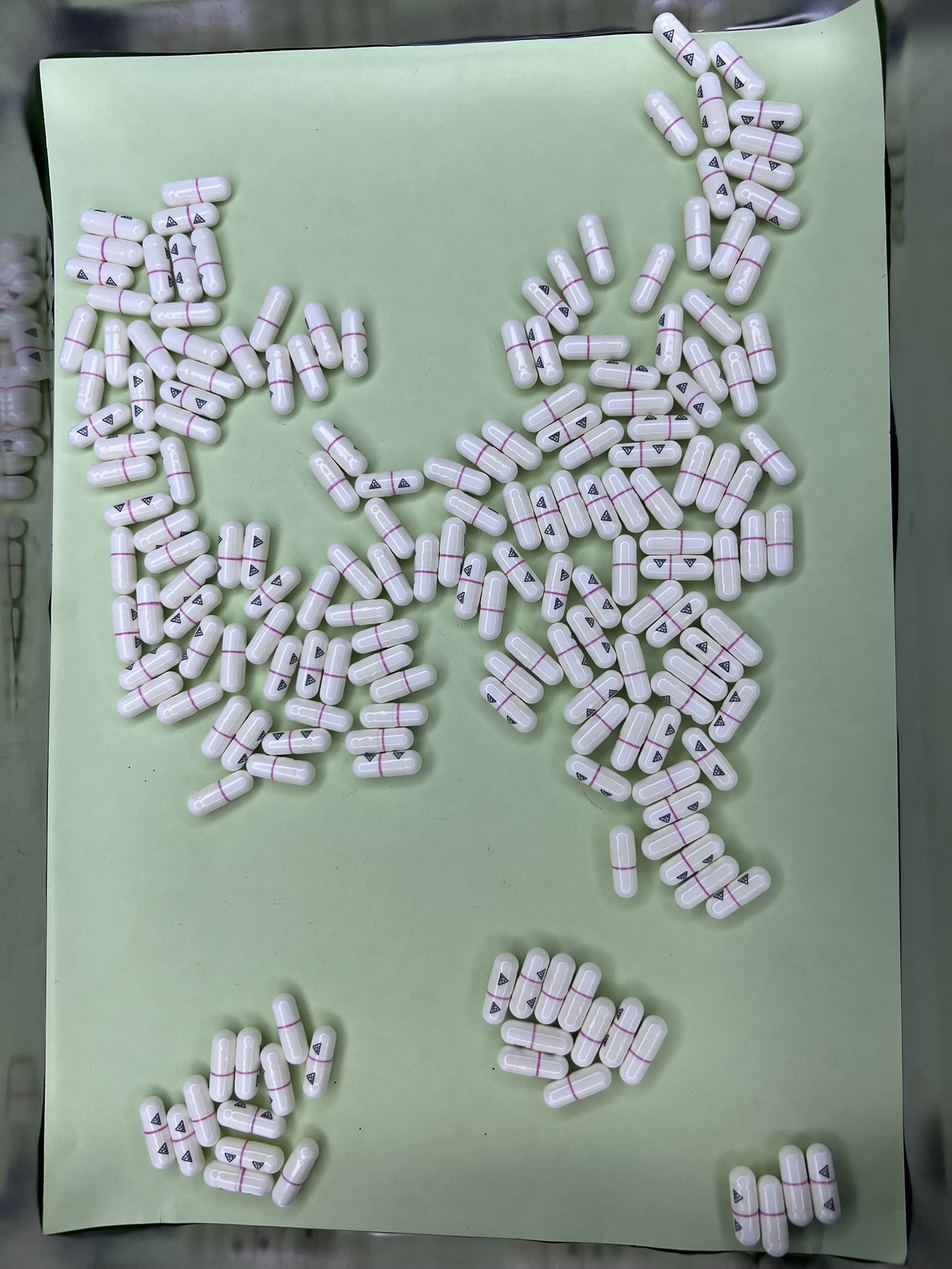Capsule: (699, 606, 765, 669), (626, 582, 694, 642), (642, 589, 709, 648), (675, 854, 741, 913), (654, 11, 712, 78), (648, 667, 715, 725), (657, 833, 726, 888), (484, 652, 548, 711), (570, 697, 631, 758), (326, 542, 385, 604), (219, 706, 274, 772), (643, 90, 695, 159), (571, 563, 622, 633), (681, 725, 739, 786), (682, 287, 740, 348), (159, 553, 220, 611), (740, 423, 796, 485), (522, 273, 578, 335), (246, 603, 297, 671), (661, 650, 724, 705), (642, 814, 711, 864), (272, 1139, 321, 1209), (536, 402, 603, 453), (478, 678, 539, 734), (546, 249, 595, 318), (368, 499, 420, 564), (733, 180, 799, 231), (564, 668, 623, 725), (680, 627, 739, 684), (309, 452, 362, 515), (481, 418, 544, 471), (455, 430, 518, 483), (602, 469, 650, 538), (711, 210, 757, 282), (312, 420, 368, 479), (712, 39, 766, 100), (634, 760, 704, 807), (727, 234, 772, 307), (629, 466, 681, 529), (524, 384, 587, 436), (622, 1016, 668, 1087), (203, 696, 253, 761), (709, 867, 771, 919), (683, 337, 729, 407), (572, 998, 618, 1068), (599, 997, 643, 1070), (504, 631, 560, 688), (165, 581, 221, 638), (667, 371, 722, 429), (365, 541, 414, 606), (641, 784, 710, 830), (349, 644, 421, 688), (716, 460, 761, 530), (542, 1065, 612, 1110), (127, 320, 176, 384), (117, 669, 182, 717), (161, 327, 230, 372), (559, 419, 621, 469), (697, 445, 740, 517), (494, 539, 543, 602), (244, 568, 299, 624), (630, 243, 674, 313), (131, 511, 201, 555), (566, 755, 631, 802), (710, 681, 759, 743), (250, 285, 294, 354), (220, 326, 268, 389), (611, 706, 655, 774), (295, 566, 341, 631), (188, 770, 253, 816), (157, 680, 223, 725), (180, 613, 225, 679), (117, 644, 180, 691), (166, 1101, 206, 1175), (777, 1145, 813, 1227), (550, 471, 592, 541), (425, 455, 490, 500), (154, 401, 222, 444), (729, 123, 802, 163), (443, 489, 499, 541), (144, 530, 210, 574), (288, 333, 330, 402), (559, 964, 601, 1033), (724, 148, 796, 188), (509, 949, 550, 1019), (806, 1143, 841, 1225), (672, 436, 712, 507), (368, 664, 437, 705), (304, 302, 345, 371), (579, 471, 621, 538), (536, 955, 576, 1025), (529, 485, 570, 553), (161, 381, 229, 422), (217, 1099, 285, 1140), (58, 305, 98, 374), (204, 1158, 273, 1198), (547, 623, 592, 684), (502, 1020, 574, 1058), (757, 1173, 789, 1258), (567, 606, 613, 665), (139, 1096, 175, 1171), (482, 954, 520, 1025), (729, 99, 803, 135), (103, 490, 177, 526), (525, 318, 564, 386), (263, 635, 303, 701), (182, 1076, 219, 1147), (260, 1043, 295, 1118), (176, 358, 241, 398), (77, 402, 136, 446), (741, 314, 777, 386), (272, 994, 309, 1064), (729, 1166, 760, 1249), (639, 707, 681, 768), (615, 635, 651, 706), (579, 214, 615, 285), (721, 347, 758, 416), (695, 71, 729, 146), (216, 1137, 283, 1175), (497, 1047, 569, 1082), (502, 483, 539, 551), (501, 320, 538, 388), (696, 149, 733, 217), (191, 227, 226, 298), (63, 255, 136, 289), (350, 620, 418, 656), (160, 438, 195, 507), (153, 201, 220, 237), (168, 233, 202, 303), (303, 1027, 336, 1099), (319, 637, 353, 706), (682, 199, 714, 272), (85, 284, 153, 318), (295, 634, 330, 700), (87, 456, 157, 489), (541, 557, 574, 627), (142, 234, 175, 304), (79, 208, 146, 242), (77, 234, 146, 267), (75, 348, 108, 417), (246, 754, 317, 786), (160, 176, 232, 207), (93, 430, 160, 463), (285, 699, 350, 732), (609, 828, 638, 901), (265, 344, 295, 414), (262, 728, 334, 757), (240, 522, 271, 589), (625, 413, 694, 443), (479, 569, 508, 640), (325, 600, 396, 629), (111, 598, 142, 664), (234, 1028, 262, 1101), (208, 1030, 236, 1103), (356, 470, 424, 500), (353, 750, 423, 779), (765, 507, 794, 577), (604, 391, 679, 418), (345, 727, 417, 755), (558, 335, 630, 363), (588, 361, 657, 390), (135, 578, 164, 647), (610, 441, 679, 470), (654, 303, 683, 372), (739, 510, 767, 581), (218, 624, 247, 692), (358, 702, 426, 731), (151, 301, 221, 329), (128, 363, 157, 430), (109, 526, 138, 593), (641, 553, 710, 581), (639, 529, 710, 556), (438, 519, 467, 585), (713, 530, 741, 598), (103, 317, 130, 387), (457, 553, 487, 615), (611, 536, 638, 604), (342, 307, 368, 377), (217, 520, 244, 584), (413, 534, 439, 600)
